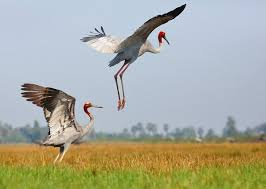seu_dau_do: (80, 2, 187, 110), (21, 80, 104, 169)
